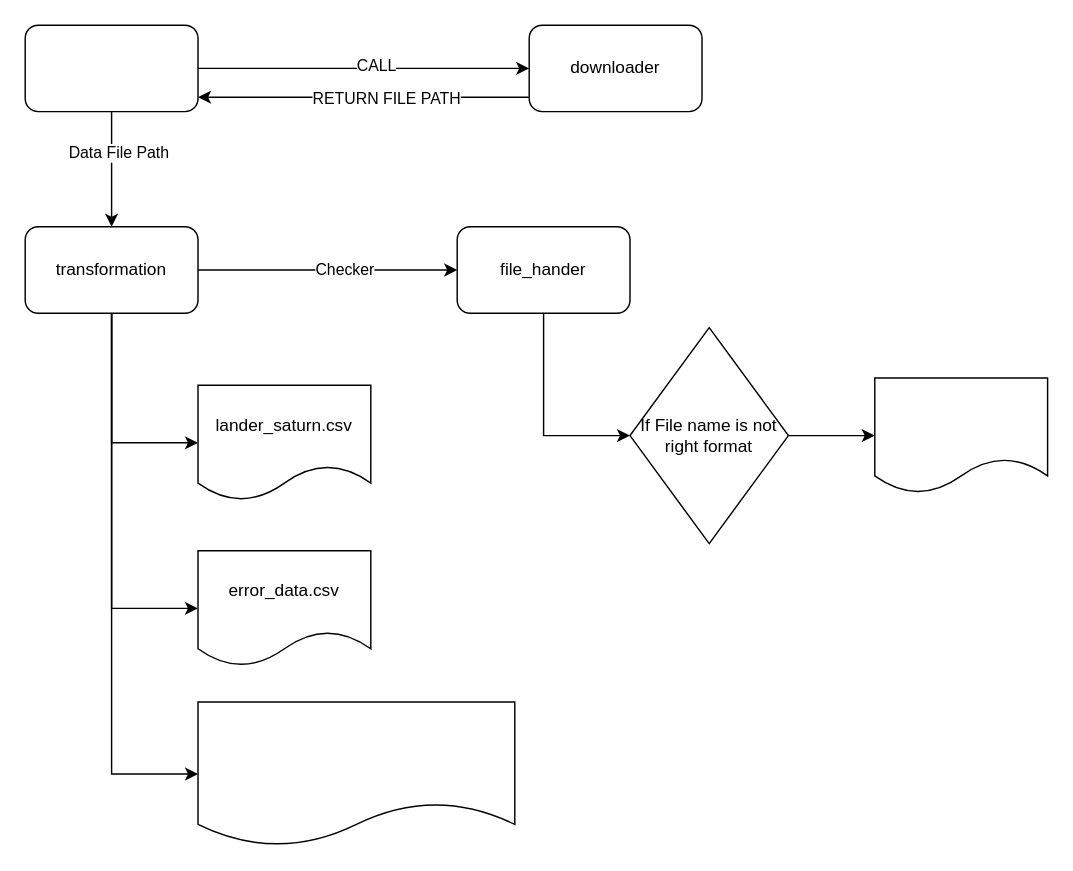
Some shapes in this 1073 by 871 pixel diagram are drawn without their labels. The centre of each missing label's shape, as x and y in pixels:
"Archive/ lander_saturn_20210301_013306.csv" belongs at [356,773].
"Error_files/ file_name.csv" belongs at [960,435].
"main" belongs at [111,68].
